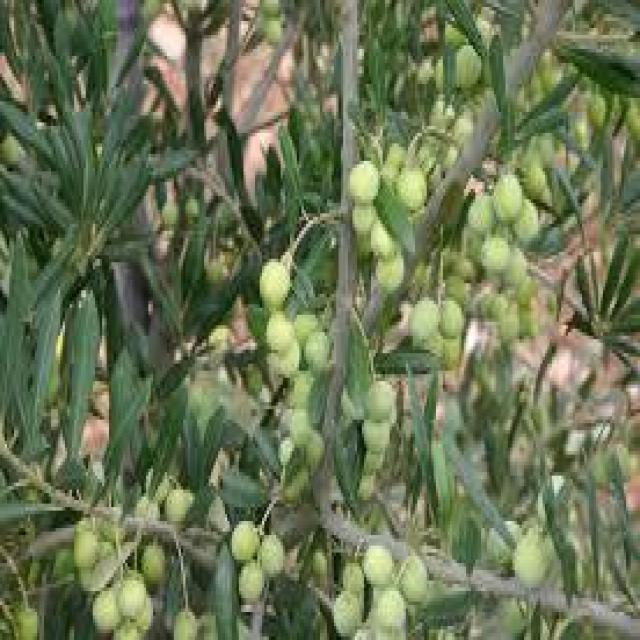Healthy: (260, 259, 290, 308), (408, 297, 438, 343), (492, 171, 519, 220), (350, 161, 378, 203), (362, 546, 392, 584), (397, 168, 424, 210), (366, 381, 394, 420), (118, 577, 146, 616), (230, 521, 257, 560), (257, 535, 283, 574), (239, 560, 262, 602)
